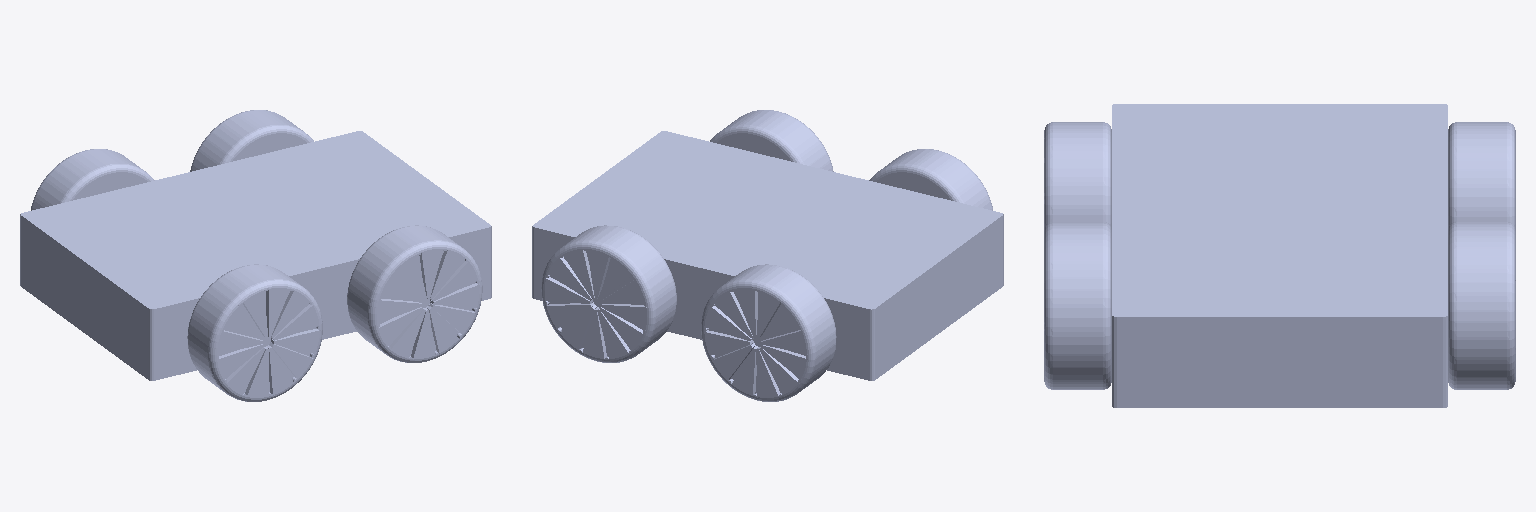
The robot description file, URDF, robot "robot_urdf":
<?xml version="1.0" ?>
<!-- =================================================================================== -->
<!-- |    This document was autogenerated by xacro from src/wall-e/urdf/robot.urdf.xacro | -->
<!-- |    EDITING THIS FILE BY HAND IS NOT RECOMMENDED                                 | -->
<!-- =================================================================================== -->
<robot name="robot_urdf">
  <!-- Base Link -->
  <link name="base_link">
    <inertial>
      <origin rpy="0 0 0" xyz="1.7528E-07 4.3368E-18 -3.1564E-07"/>
      <mass value="0.45937"/>
      <inertia ixx="0.00043611" ixy="-4.0945E-20" ixz="-2.1354E-20" iyy="0.00088919" iyz="1.6285E-22" izz="0.0012573"/>
    </inertial>
    <visual>
      <origin rpy="0 0 0" xyz="0 0 0"/>
      <geometry>
        <mesh filename="package://wall-e/meshes/base_link.STL"/>
      </geometry>
      <material name="">
        <color rgba="0.79216 0.81961 0.93333 1"/>
      </material>
    </visual>
    <collision>
      <origin rpy="0 0 0" xyz="0 0 0"/>
      <geometry>
        <mesh filename="package://wall-e/meshes/base_link.STL"/>
      </geometry>
    </collision>
  </link>
  <link name="lf_link">
    <inertial>
      <origin rpy="0 0 0" xyz="-1.1319E-06 0.00085532 2.8562E-06"/>
      <mass value="0.033011"/>
      <inertia ixx="6.6258e-06" ixy="3.0204e-10" ixz="-5.6054e-12" iyy="1.1308e-05" iyz="-7.6739e-10" izz="6.6258e-06"/>
    </inertial>
    <visual>
      <origin rpy="0 0 0" xyz="0 0 0"/>
      <geometry>
        <mesh filename="package://wall-e/meshes/lf_link.STL"/>
      </geometry>
      <material name="">
        <color rgba="0.79216 0.81961 0.93333 1"/>
      </material>
    </visual>
    <collision>
      <origin rpy="0 0 0" xyz="0 0 0"/>
      <geometry>
        <mesh filename="package://wall-e/meshes/lf_link.STL"/>
      </geometry>
    </collision>
  </link>
  <link name="lb_link">
    <inertial>
      <origin rpy="0 0 0" xyz="2.51E-06 0.00085532 1.7718E-06"/>
      <mass value="0.033011"/>
      <inertia ixx="6.6258e-06" ixy="-6.7485e-10" ixz="7.8844e-12" iyy="1.1308e-05" iyz="-4.7403e-10" izz="6.6258e-06"/>
    </inertial>
    <visual>
      <origin rpy="0 0 0" xyz="0 0 0"/>
      <geometry>
        <mesh filename="package://wall-e/meshes/lb_link.STL"/>
      </geometry>
      <material name="">
        <color rgba="0.79216 0.81961 0.93333 1"/>
      </material>
    </visual>
    <collision>
      <origin rpy="0 0 0" xyz="0 0 0"/>
      <geometry>
        <mesh filename="package://wall-e/meshes/lb_link.STL"/>
      </geometry>
    </collision>
  </link>
  <link name="rf_link">
    <inertial>
      <origin rpy="0 0 0" xyz="-1.8104E-06 -0.00085532 2.4825E-06"/>
      <mass value="0.033011"/>
      <inertia ixx="6.6258e-06" ixy="-4.8757e-10" ixz="-8.202e-12" iyy="1.1308e-05" iyz="6.6517e-10" izz="6.6258e-06"/>
    </inertial>
    <visual>
      <origin rpy="0 0 0" xyz="0 0 0"/>
      <geometry>
        <mesh filename="package://wall-e/meshes/rf_link.STL"/>
      </geometry>
      <material name="">
        <color rgba="0.79216 0.81961 0.93333 1"/>
      </material>
    </visual>
    <collision>
      <origin rpy="0 0 0" xyz="0 0 0"/>
      <geometry>
        <mesh filename="package://wall-e/meshes/rf_link.STL"/>
      </geometry>
    </collision>
  </link>
  <link name="rb_link">
    <inertial>
      <origin rpy="0 0 0" xyz="-2.7058E-06 -0.00085532 -1.4556E-06"/>
      <mass value="0.033011"/>
      <inertia ixx="6.6258e-06" ixy="-7.2536e-10" ixz="7.3893e-12" iyy="1.1308e-05" iyz="-3.9246e-10" izz="6.6258e-06"/>
    </inertial>
    <visual>
      <origin rpy="0 0 0" xyz="0 0 0"/>
      <geometry>
        <mesh filename="package://wall-e/meshes/rb_link.STL"/>
      </geometry>
      <material name="">
        <color rgba="0.79216 0.81961 0.93333 1"/>
      </material>
    </visual>
    <collision>
      <origin rpy="0 0 0" xyz="0 0 0"/>
      <geometry>
        <mesh filename="package://wall-e/meshes/rb_link.STL"/>
      </geometry>
    </collision>
  </link>
  <!-- Joints -->
  <joint name="lf_joint" type="continuous">
    <origin rpy="0 0 0" xyz="0.035 0.06 0"/>
    <parent link="base_link"/>
    <child link="lf_link"/>
    <axis xyz="0 1 0"/>
  </joint>
  <joint name="lb_joint" type="continuous">
    <origin rpy="0 0 0" xyz="-0.035 0.06 0"/>
    <parent link="base_link"/>
    <child link="lb_link"/>
    <axis xyz="0 1 0"/>
  </joint>
  <joint name="rf_joint" type="continuous">
    <origin rpy="0 0 0" xyz="0.035 -0.06 0"/>
    <parent link="base_link"/>
    <child link="rf_link"/>
    <axis xyz="0 1 0"/>
  </joint>
  <joint name="rb_joint" type="continuous">
    <origin rpy="0 0 0" xyz="-0.035 -0.06 0"/>
    <parent link="base_link"/>
    <child link="rb_link"/>
    <axis xyz="0 1 0"/>
  </joint>
  <plugin filename="diff_drive_controller" name="gz::sim::systems::DiffDrive">
    <left_joint>lf_joint</left_joint>
    <right_joint>rf_joint</right_joint>
    <wheel_separation>0.12</wheel_separation>
    <wheel_radius>0.1</wheel_radius>
    <max_linear_acceleration>0.5</max_linear_acceleration>
    <topic>cmd_vel</topic>
    <odom_topic>odom</odom_topic>
    <frame_id>odom</frame_id>
    <child_frame_id>base_link</child_frame_id>
    <odom_publisher_frequency>30</odom_publisher_frequency>
    <tf_topic>/tf</tf_topic>
  </plugin>
</robot>

--- Render facts (derived) ---
3 views of the same robot in one strip: view 1: azimuth 30°, elevation 25°; view 2: azimuth 150°, elevation 25°; view 3: azimuth 270°, elevation 25° (orthographic).
Robot: robot_urdf — 5 links, 4 joints (4 continuous); root link base_link; default pose: every joint at zero.
Links seen in each view (by area): view 1: base_link, rf_link, rb_link, lf_link, lb_link; view 2: base_link, lf_link, lb_link, rf_link, rb_link; view 3: base_link, lf_link, rf_link, rb_link, lb_link.
Link boxes in pixels (x1,y1,x2,y2): base_link: [20, 131, 491, 380]; rf_link: [347, 225, 482, 362]; rb_link: [187, 264, 322, 401]; lf_link: [190, 110, 313, 171]; lb_link: [31, 149, 154, 210]; base_link: [532, 131, 1003, 380]; lf_link: [541, 225, 676, 362]; lb_link: [701, 264, 836, 401]; rf_link: [710, 110, 833, 171]; rb_link: [869, 149, 992, 210]; base_link: [1112, 104, 1447, 407]; lf_link: [1448, 222, 1515, 389]; rf_link: [1044, 222, 1111, 389]; rb_link: [1044, 122, 1111, 229]; lb_link: [1448, 122, 1515, 229].
Bounding box of the posed robot: 0.15 × 0.14 × 0.05 m (x, y, z).
Meshes: 5 distinct files referenced, 5 mesh visuals loaded (5 binary STL).
